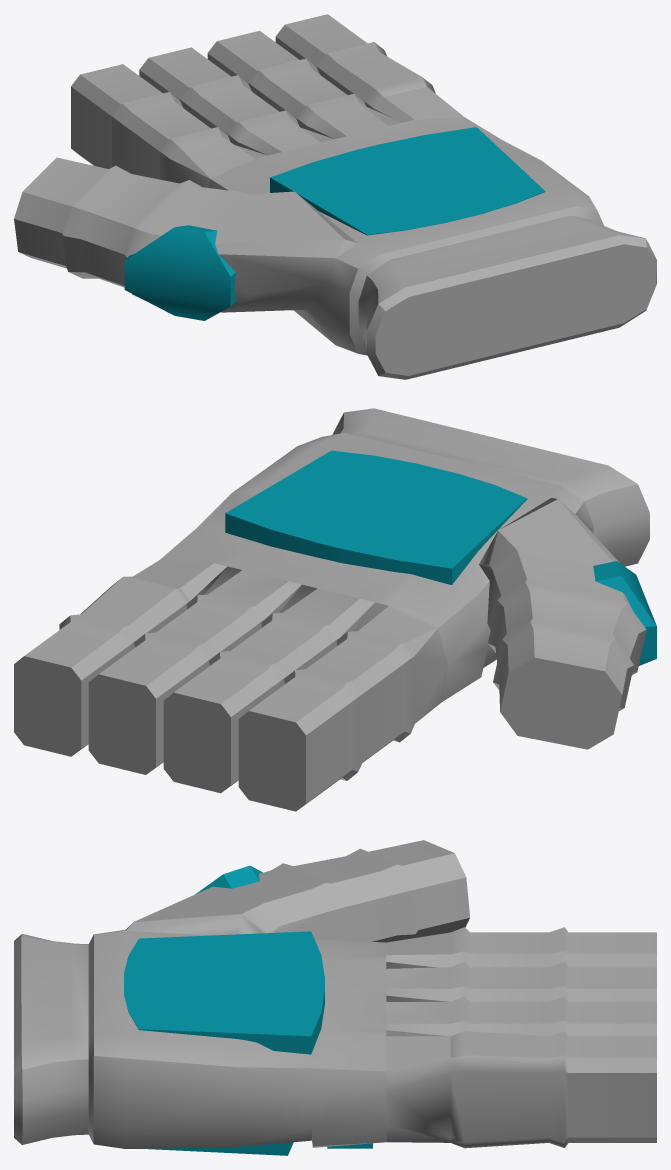
The model's file is right hand.fbx.
3 renders of one model, top to bottom at view 1: azimuth 30°, elevation 25°; view 2: azimuth 150°, elevation 25°; view 3: azimuth 270°, elevation 25°, orthographic. The views are drawn at different scales.
Visible parts, largest first — view 1: left_hand, hand_gem, thumb_gem; view 2: left_hand, hand_gem, thumb_gem; view 3: left_hand, hand_gem, palm_gem, thumb_gem.
Boxes of the visible parts, x1,y1,x2,y2 form: left_hand: (14,14,656,379); hand_gem: (270,127,545,235); thumb_gem: (124,225,236,320); left_hand: (14,408,649,811); hand_gem: (225,450,527,584); thumb_gem: (593,561,656,665); left_hand: (14,840,656,1148); hand_gem: (124,931,324,1054); palm_gem: (141,1142,293,1155); thumb_gem: (195,865,262,894).
Size of the model in its own units: 6.51 by 1.74 by 7.67.
